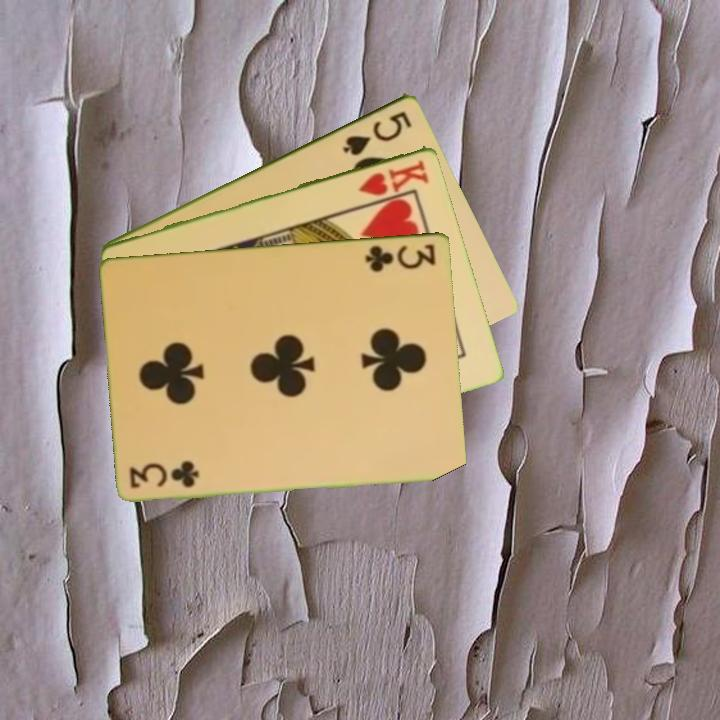3c: (362, 240, 439, 275), (126, 460, 203, 490)
5s: (339, 106, 415, 159)
Kh: (355, 156, 432, 199)
